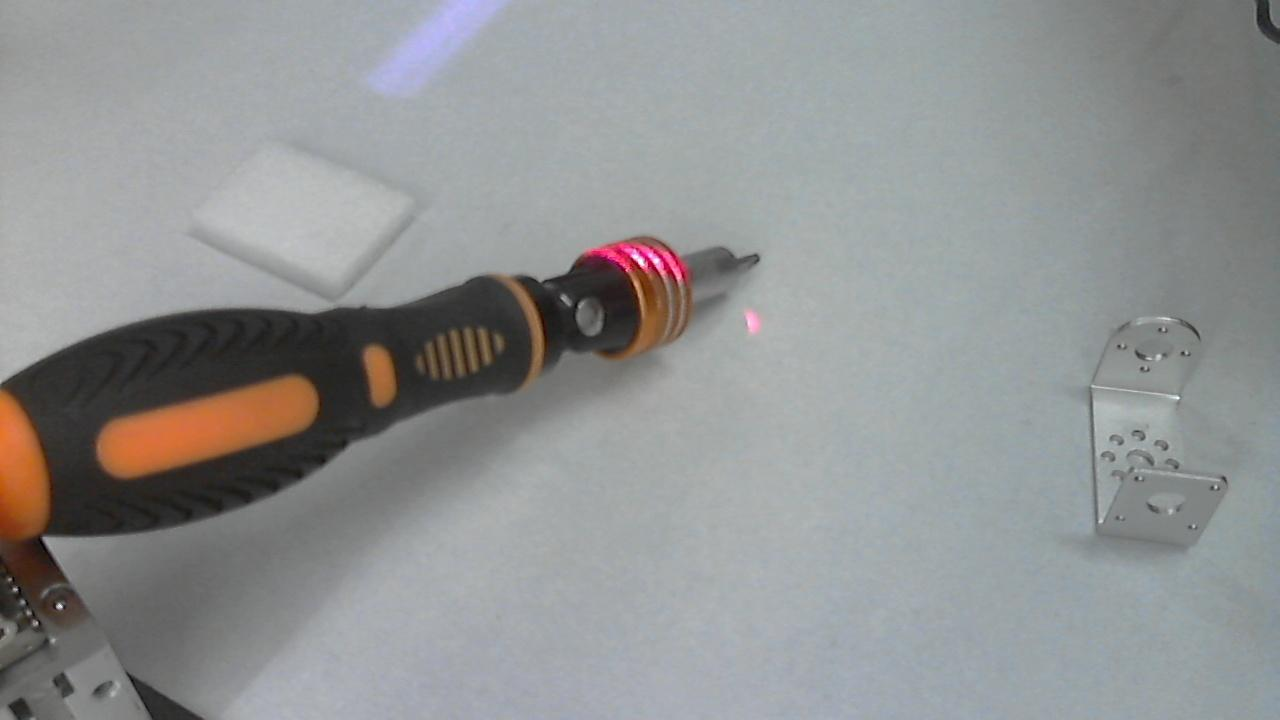Object precision screwdriver - Material Metal - Pdfname NoEr35VbQ7sR: (595, 228, 694, 282)
